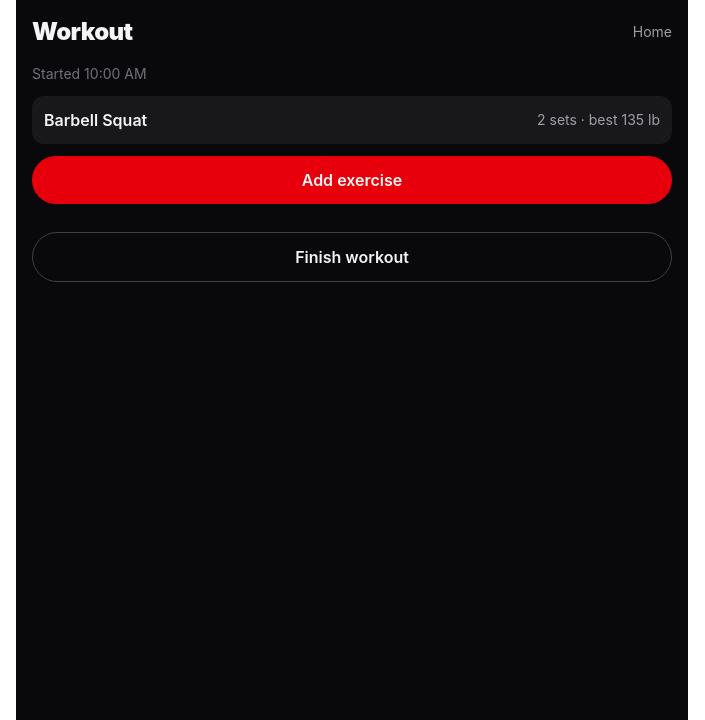
Scenario: WorkoutPage › counts records in the finish summary
Click the button "Finish workout".
click(352, 257)  # box [32,232,672,282]
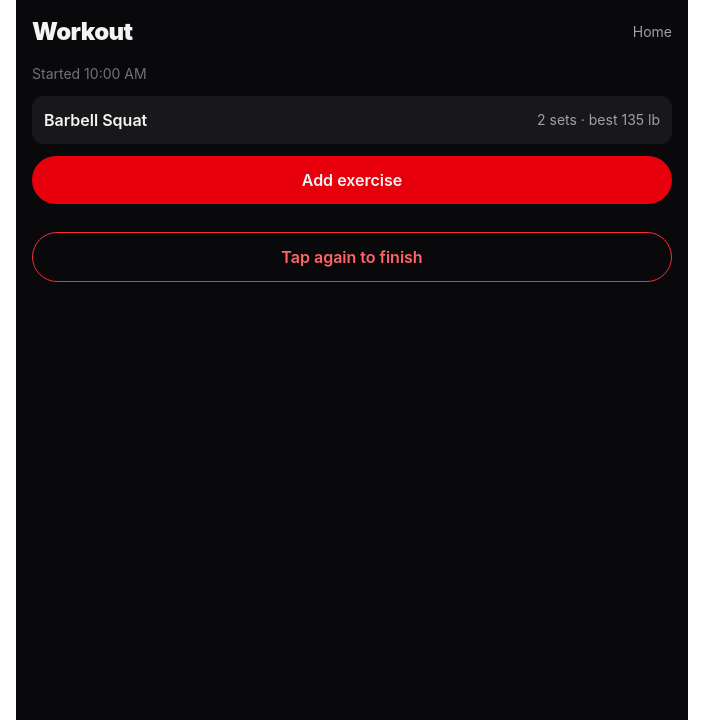
Click the button "Tap again to finish".
click(352, 257)  # box [32,232,672,282]
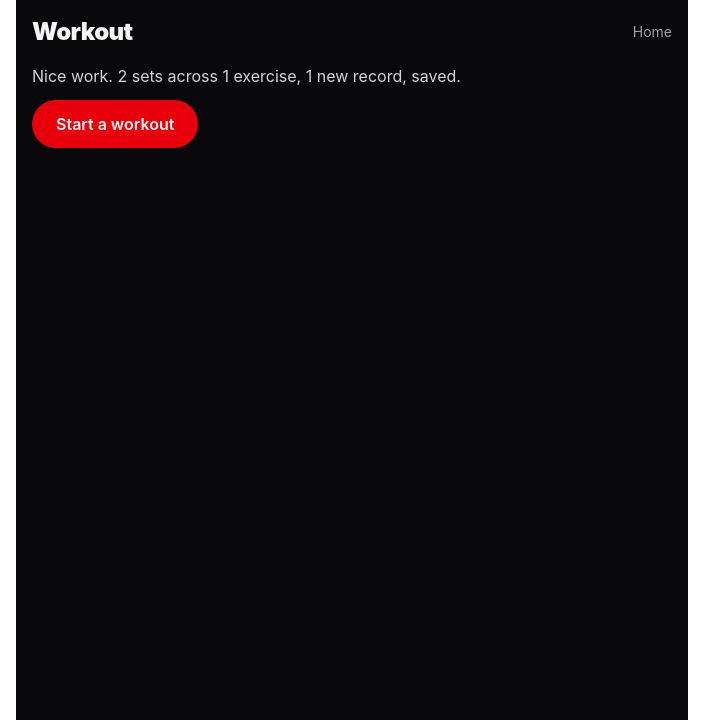
Result: the message shows "2 sets across 1 exercise, 1 new record, saved." at [32,66,461,86]
